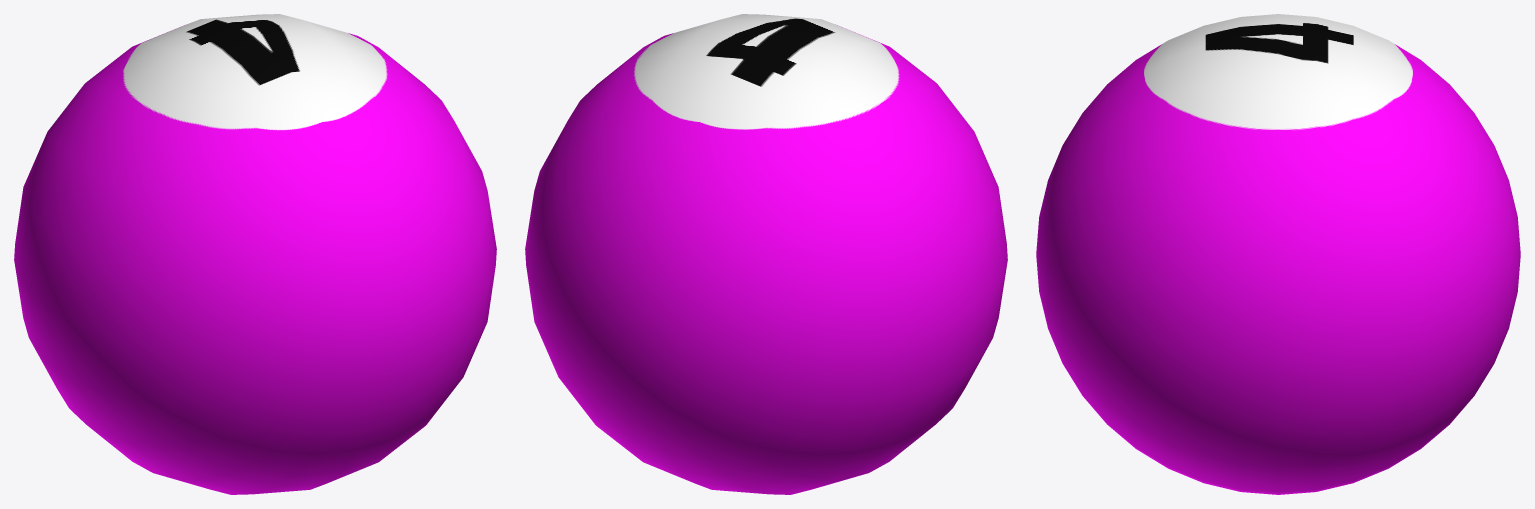
Rendered from ball4.fbx.
3 renders of one model, left to right at view 1: azimuth 30°, elevation 25°; view 2: azimuth 150°, elevation 25°; view 3: azimuth 270°, elevation 25°, orthographic.
Visible parts, largest first — view 1: pSphere1; view 2: pSphere1; view 3: pSphere1.
Boxes of the visible parts, x1,y1,x2,y2 form: pSphere1: (14, 14, 496, 494); pSphere1: (525, 14, 1007, 494); pSphere1: (1036, 14, 1520, 494).
Size of the model in its own units: 2 by 2 by 2.
